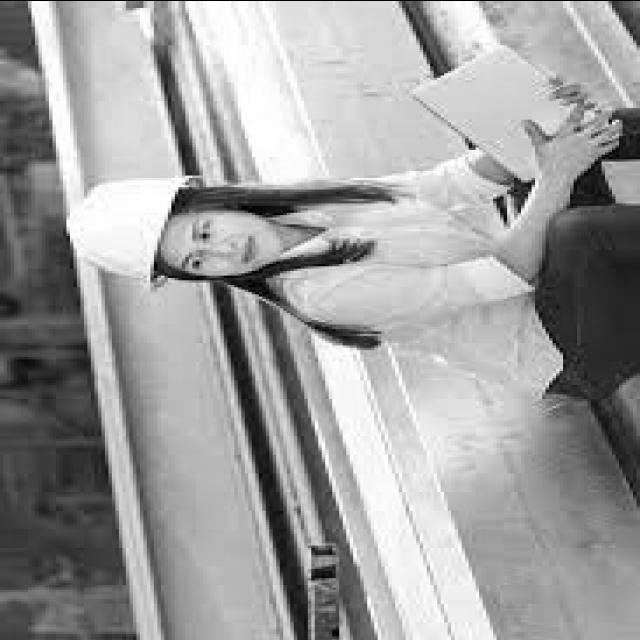construction helmet: (70, 175, 196, 286)
